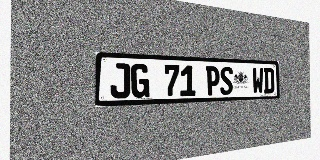1: (180, 65, 195, 96)
7: (163, 65, 180, 97)
D: (264, 68, 274, 94)
G: (131, 63, 149, 98)
J: (110, 63, 130, 99)
P: (206, 66, 220, 95)
S: (220, 66, 233, 95)
W: (252, 67, 263, 94)
